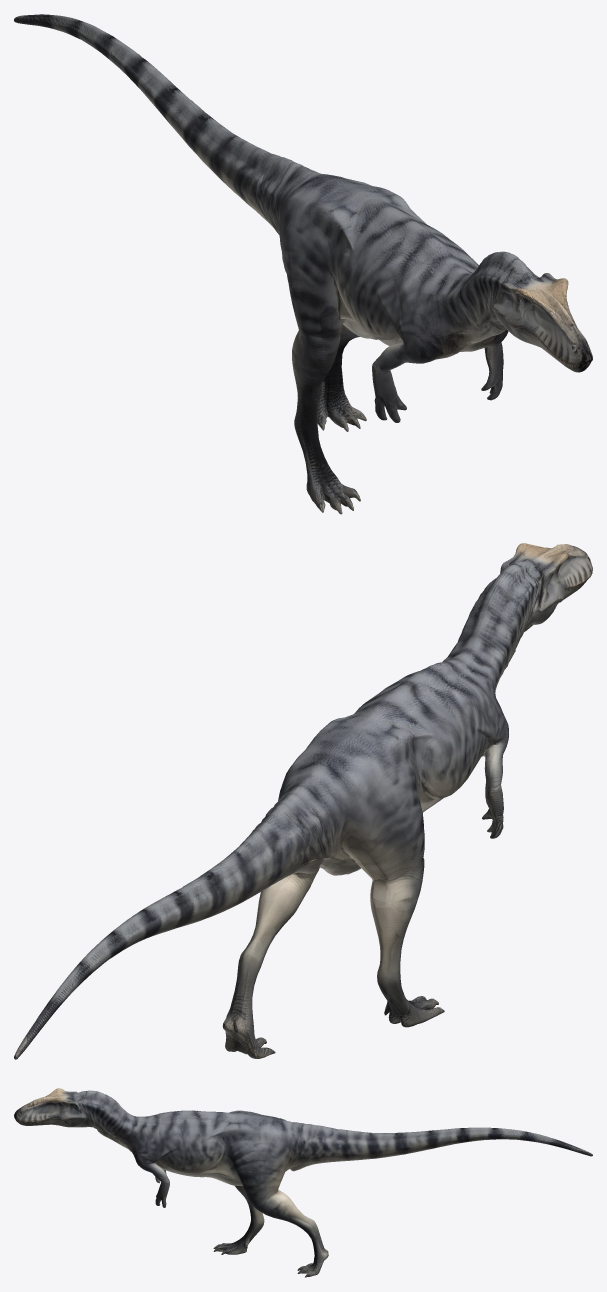
File: remotus.glb
3 renders of one model, top to bottom at view 1: azimuth 30°, elevation 25°; view 2: azimuth 150°, elevation 25°; view 3: azimuth 270°, elevation 25°, orthographic. The views are drawn at different scales.
Bounding box in the file's own units: 0.2515 × 0.6173 × 1.9.
Materials: 1 (1 with a texture image).
